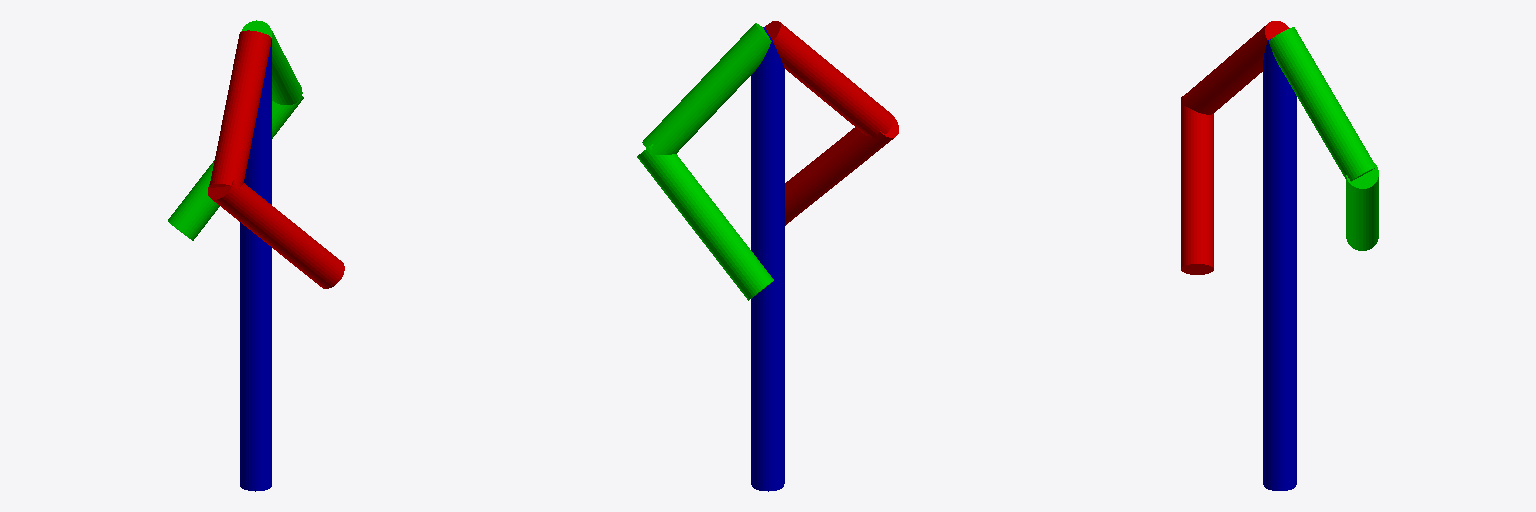
The robot description file, URDF, robot "robot_cursor":
<?xml version="1.0"?>
	<robot name="robot_cursor">

		<!-- tige centrale -->
		<link name="base_link">
			<visual>
				<origin rpy="0 0 0" xyz="0 0 0"/>
				<geometry>
					<cylinder length="0.3" radius="0.01"/>
				</geometry>
				<material name="Blue">
					<color rgba="0.0 0.0 0.8 1.0"/>
				</material>
			</visual>
			<collision>
				<origin rpy="1.5707 0 0" xyz="0 0 0"/>
				<geometry>
					<cylinder length="0.3" radius="0.055"/>
				</geometry>
			</collision>
		</link>

		<link name="up_1">
			<visual>
				<origin rpy="0 2.3562 0.7854" xyz="0.025355 0.025355 -0.035355"/>
				<geometry>
					<cylinder length="0.1" radius="0.01"/>
				</geometry>
				<material name="Green">
					<color rgba="0.0 0.8 0.0 1.0"/>
				</material>
			</visual>
	 </link>

   <joint name="base_to_up" type="fixed">
       <parent link="base_link"/>
       <child link="up_1"/>
       <origin xyz="0 0 0.15"/>
   </joint>

		<link name="up_2">
			<visual>
				<origin rpy="0 0.7854 0" xyz="-0.035355 0 -0.035355"/>
				<geometry>
					<cylinder length="0.11" radius="0.01"/>
				</geometry>
				<material name="Green">
					<color rgba="0.0 0.8 0.0 1.0"/>
				</material>
			</visual>
		</link>			

		<joint name="up_coude" type="fixed">
       <parent link="up_1"/>
       <child link="up_2"/>
       <origin xyz="0.05 0.05 -0.07071"/>
   	</joint>

		<link name="down_1">
			<visual>
				<origin rpy="0 0.7854 0.7854" xyz="-0.025355 -0.025355 -0.035355"/>
				<geometry>
					<cylinder length="0.1" radius="0.01"/>
				</geometry>
				<material name="Red">
					<color rgba="0.8 0.0 0.0 1.0"/>
				</material>
			</visual>
	 </link>

   <joint name="base_to_down" type="fixed">
       <parent link="base_link"/>
       <child link="down_1"/>
       <origin xyz="0 0 0.15"/>
   </joint>

		<link name="down_2">
			<visual>
				<origin rpy="0 2.3562 0" xyz="0.035355 0 -0.035355"/>
				<geometry>
					<cylinder length="0.11" radius="0.01"/>
				</geometry>
				<material name="Red">
					<color rgba="0.8 0.0 0.0 1.0"/>
				</material>
			</visual>
		</link>			

		<joint name="down_coude" type="fixed">
       <parent link="down_1"/>
       <child link="down_2"/>
       <origin xyz="-0.05 -0.05 -0.07071"/>
   	</joint>


	</robot>

--- Facts derived from the render (not from the file) ---
Views: 3 orthographic renders of the robot side by side, from view 1: azimuth 30°, elevation 25°; view 2: azimuth 150°, elevation 25°; view 3: azimuth 270°, elevation 25°.
Model robot_cursor with 5 links and 4 joints (4 fixed), rooted at base_link, posed all joints at 0.
Links seen in each view (by area): view 1: base_link, down_1, down_2, up_2, up_1; view 2: base_link, up_2, up_1, down_1, down_2; view 3: base_link, down_2, up_1, down_1, up_2.
Boxes of the visible links, x1,y1,x2,y2 form: base_link: (240,40,271,491); down_1: (209,30,271,189); down_2: (208,180,344,288); up_2: (168,95,303,240); up_1: (241,20,302,104); base_link: (751,27,784,491); up_2: (637,144,773,300); up_1: (642,23,771,155); down_1: (765,21,893,137); down_2: (785,117,898,225); base_link: (1263,39,1296,490); down_2: (1181,95,1213,274); up_1: (1269,27,1375,181); down_1: (1183,21,1289,114); up_2: (1346,162,1378,250).
Bounding box of the posed robot: 0.1212 × 0.12 × 0.3071 m (x, y, z).
Geometry: primitives only (box / cylinder / sphere), no mesh files.